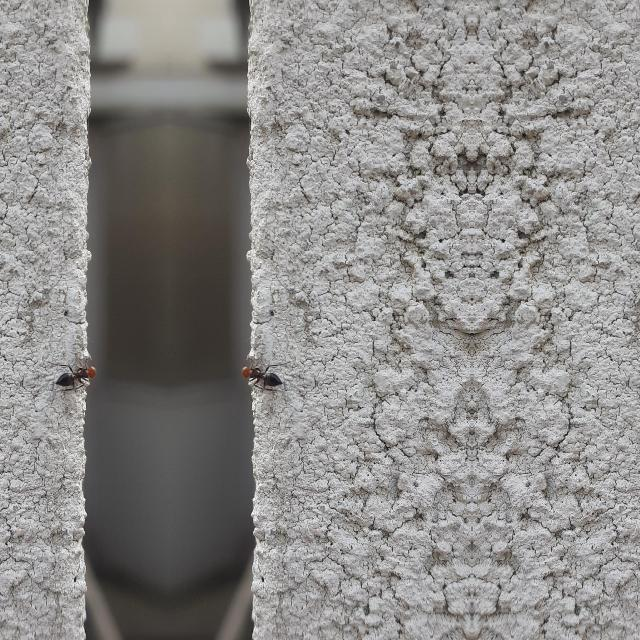Crematogaster: (232, 362, 284, 388), (52, 362, 104, 388)
